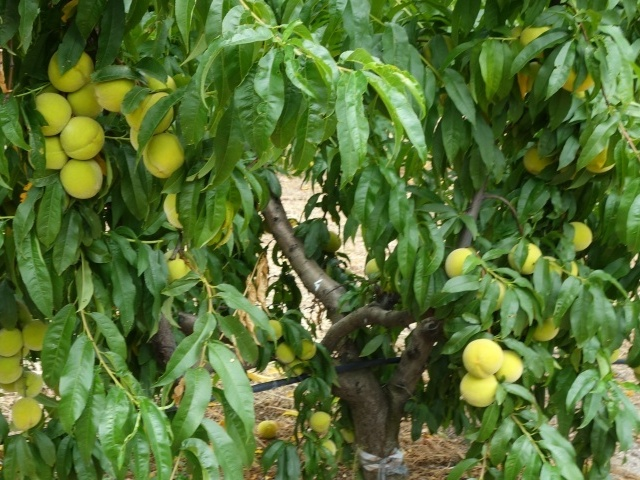peach: (118, 85, 177, 140), (45, 42, 100, 93), (142, 129, 191, 182), (60, 113, 108, 161), (61, 151, 106, 202), (28, 89, 75, 136), (63, 75, 111, 120), (461, 332, 505, 381), (93, 73, 141, 115), (456, 369, 501, 410), (34, 131, 75, 171), (492, 347, 529, 387), (158, 188, 189, 234), (508, 237, 545, 275), (10, 396, 47, 433), (443, 243, 480, 280), (22, 313, 56, 353), (530, 307, 562, 347), (518, 141, 552, 178), (563, 218, 594, 256), (10, 368, 44, 401), (306, 405, 333, 436), (1, 324, 24, 359), (1, 349, 22, 386), (272, 337, 297, 365), (321, 226, 344, 256), (361, 255, 386, 281), (297, 332, 321, 359), (263, 320, 286, 342)
